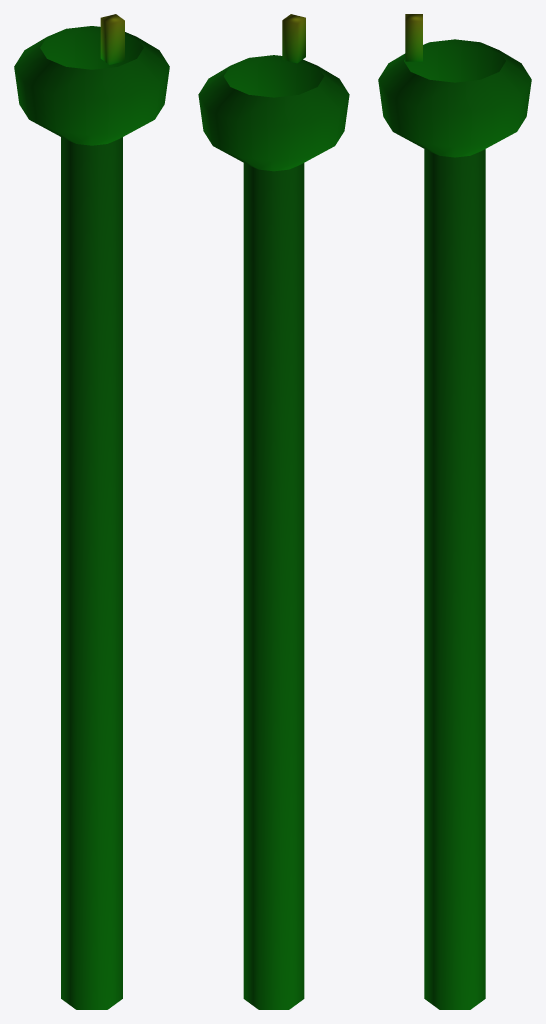
Rendered from strand_lamp.glb.
The picture shows the model from 3 angles, left to right: view 1: azimuth 30°, elevation 25°; view 2: azimuth 150°, elevation 25°; view 3: azimuth 270°, elevation 25°; orthographic projection. The views are drawn at different scales.
Parts seen in each view (by area): view 1: strand_lamp; view 2: strand_lamp; view 3: strand_lamp.
Part boxes in pixels (<box>): strand_lamp: <box>14,14,169,1009</box>; strand_lamp: <box>198,14,349,1009</box>; strand_lamp: <box>378,14,531,1009</box>.
Size of what is drawn, in the model's own units: 0.15 by 1.06 by 0.15.
